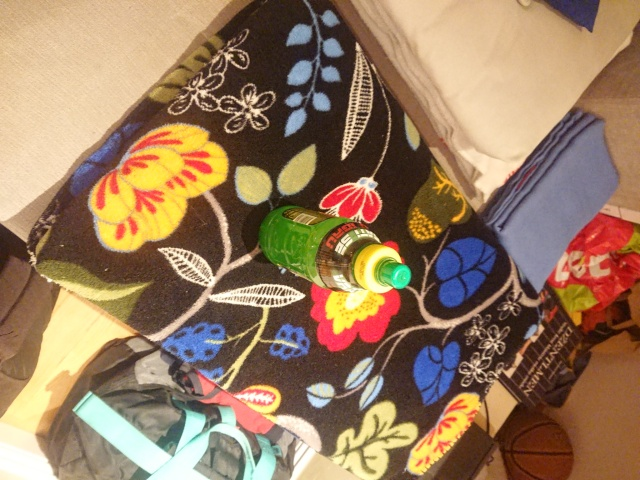Vindi Iso Sport Lemon-Grapefruit 500mL: (255, 202, 414, 296)
